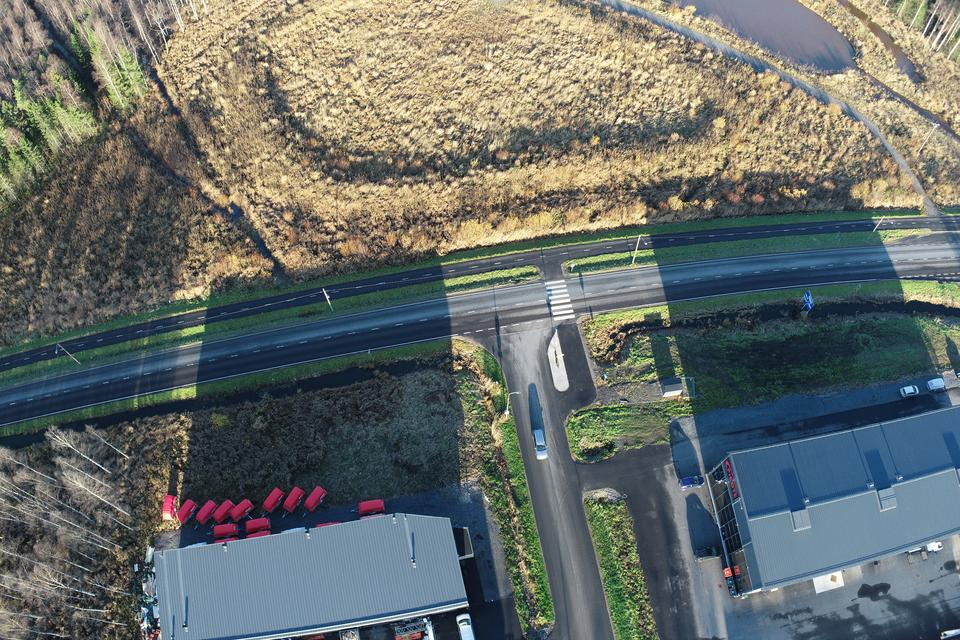intersection: (443, 216, 612, 432), (904, 178, 960, 290)
